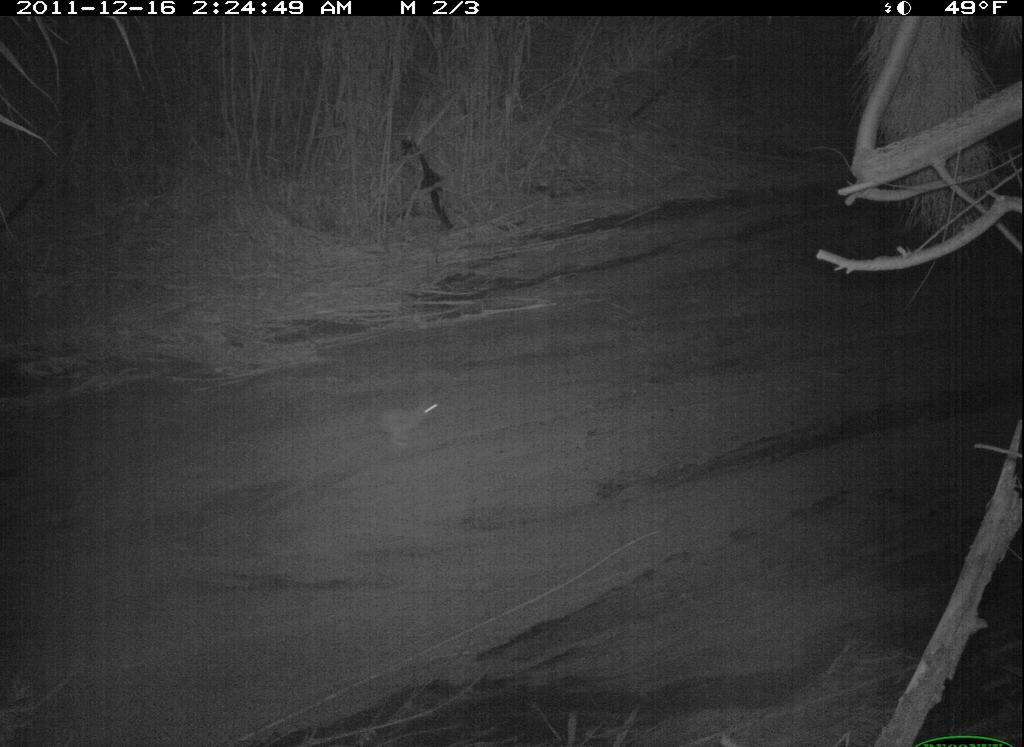rabbit: (355, 378, 483, 479)
